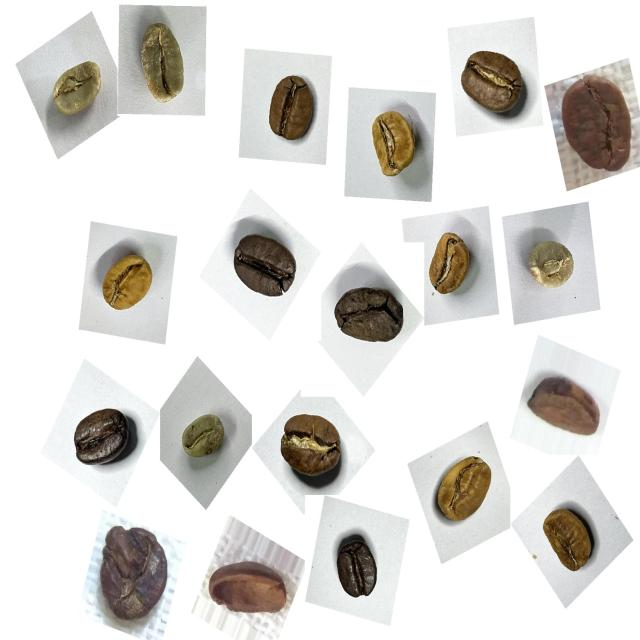bad: (92, 516, 177, 636), (551, 65, 637, 181), (524, 361, 606, 450), (201, 545, 290, 626)
dark: (224, 221, 308, 316), (324, 271, 408, 359), (66, 395, 144, 479), (324, 522, 389, 612)
green: (126, 10, 194, 114), (37, 48, 110, 132), (515, 225, 585, 304), (172, 402, 235, 472)
light: (424, 441, 506, 537), (357, 96, 431, 192), (531, 494, 605, 586), (92, 242, 166, 326), (418, 224, 479, 306)
medium: (272, 406, 352, 496), (454, 40, 531, 126), (256, 64, 322, 154)
